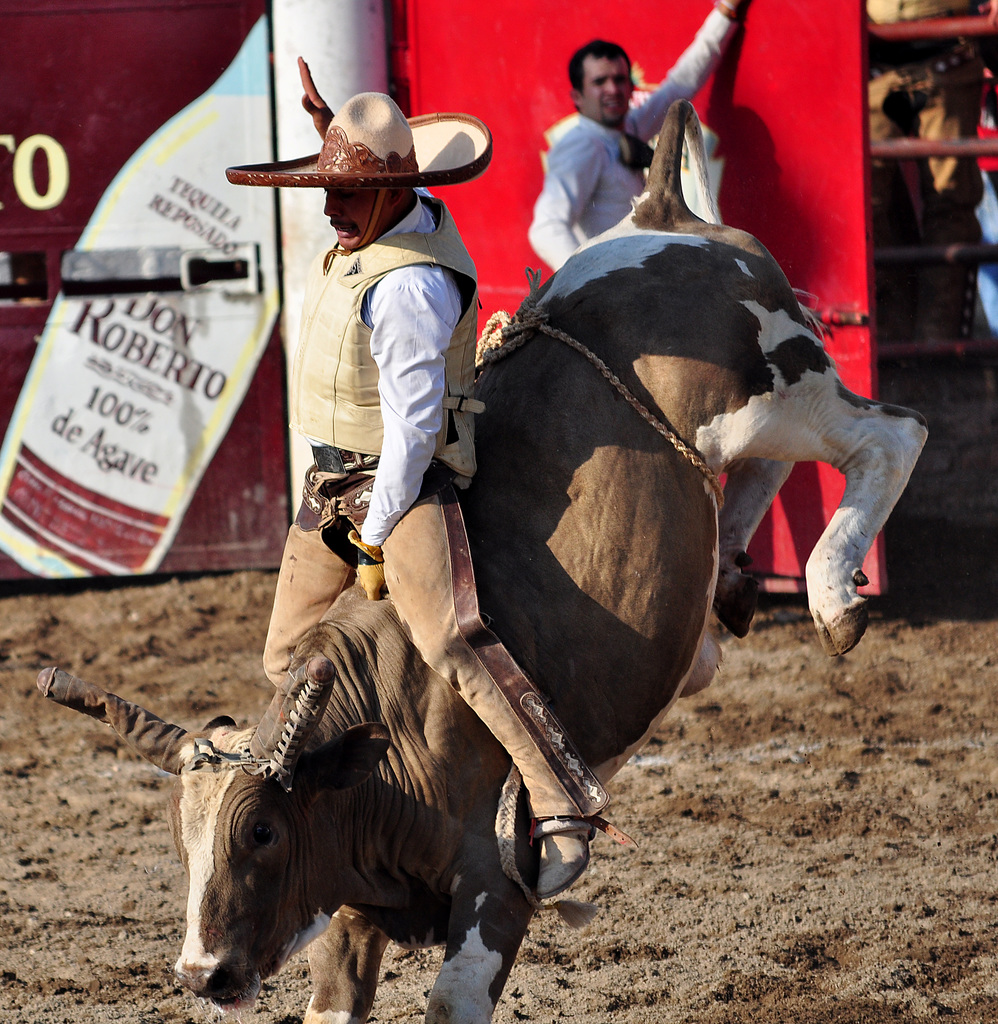Person: (224, 56, 638, 898), (527, 0, 742, 272)
